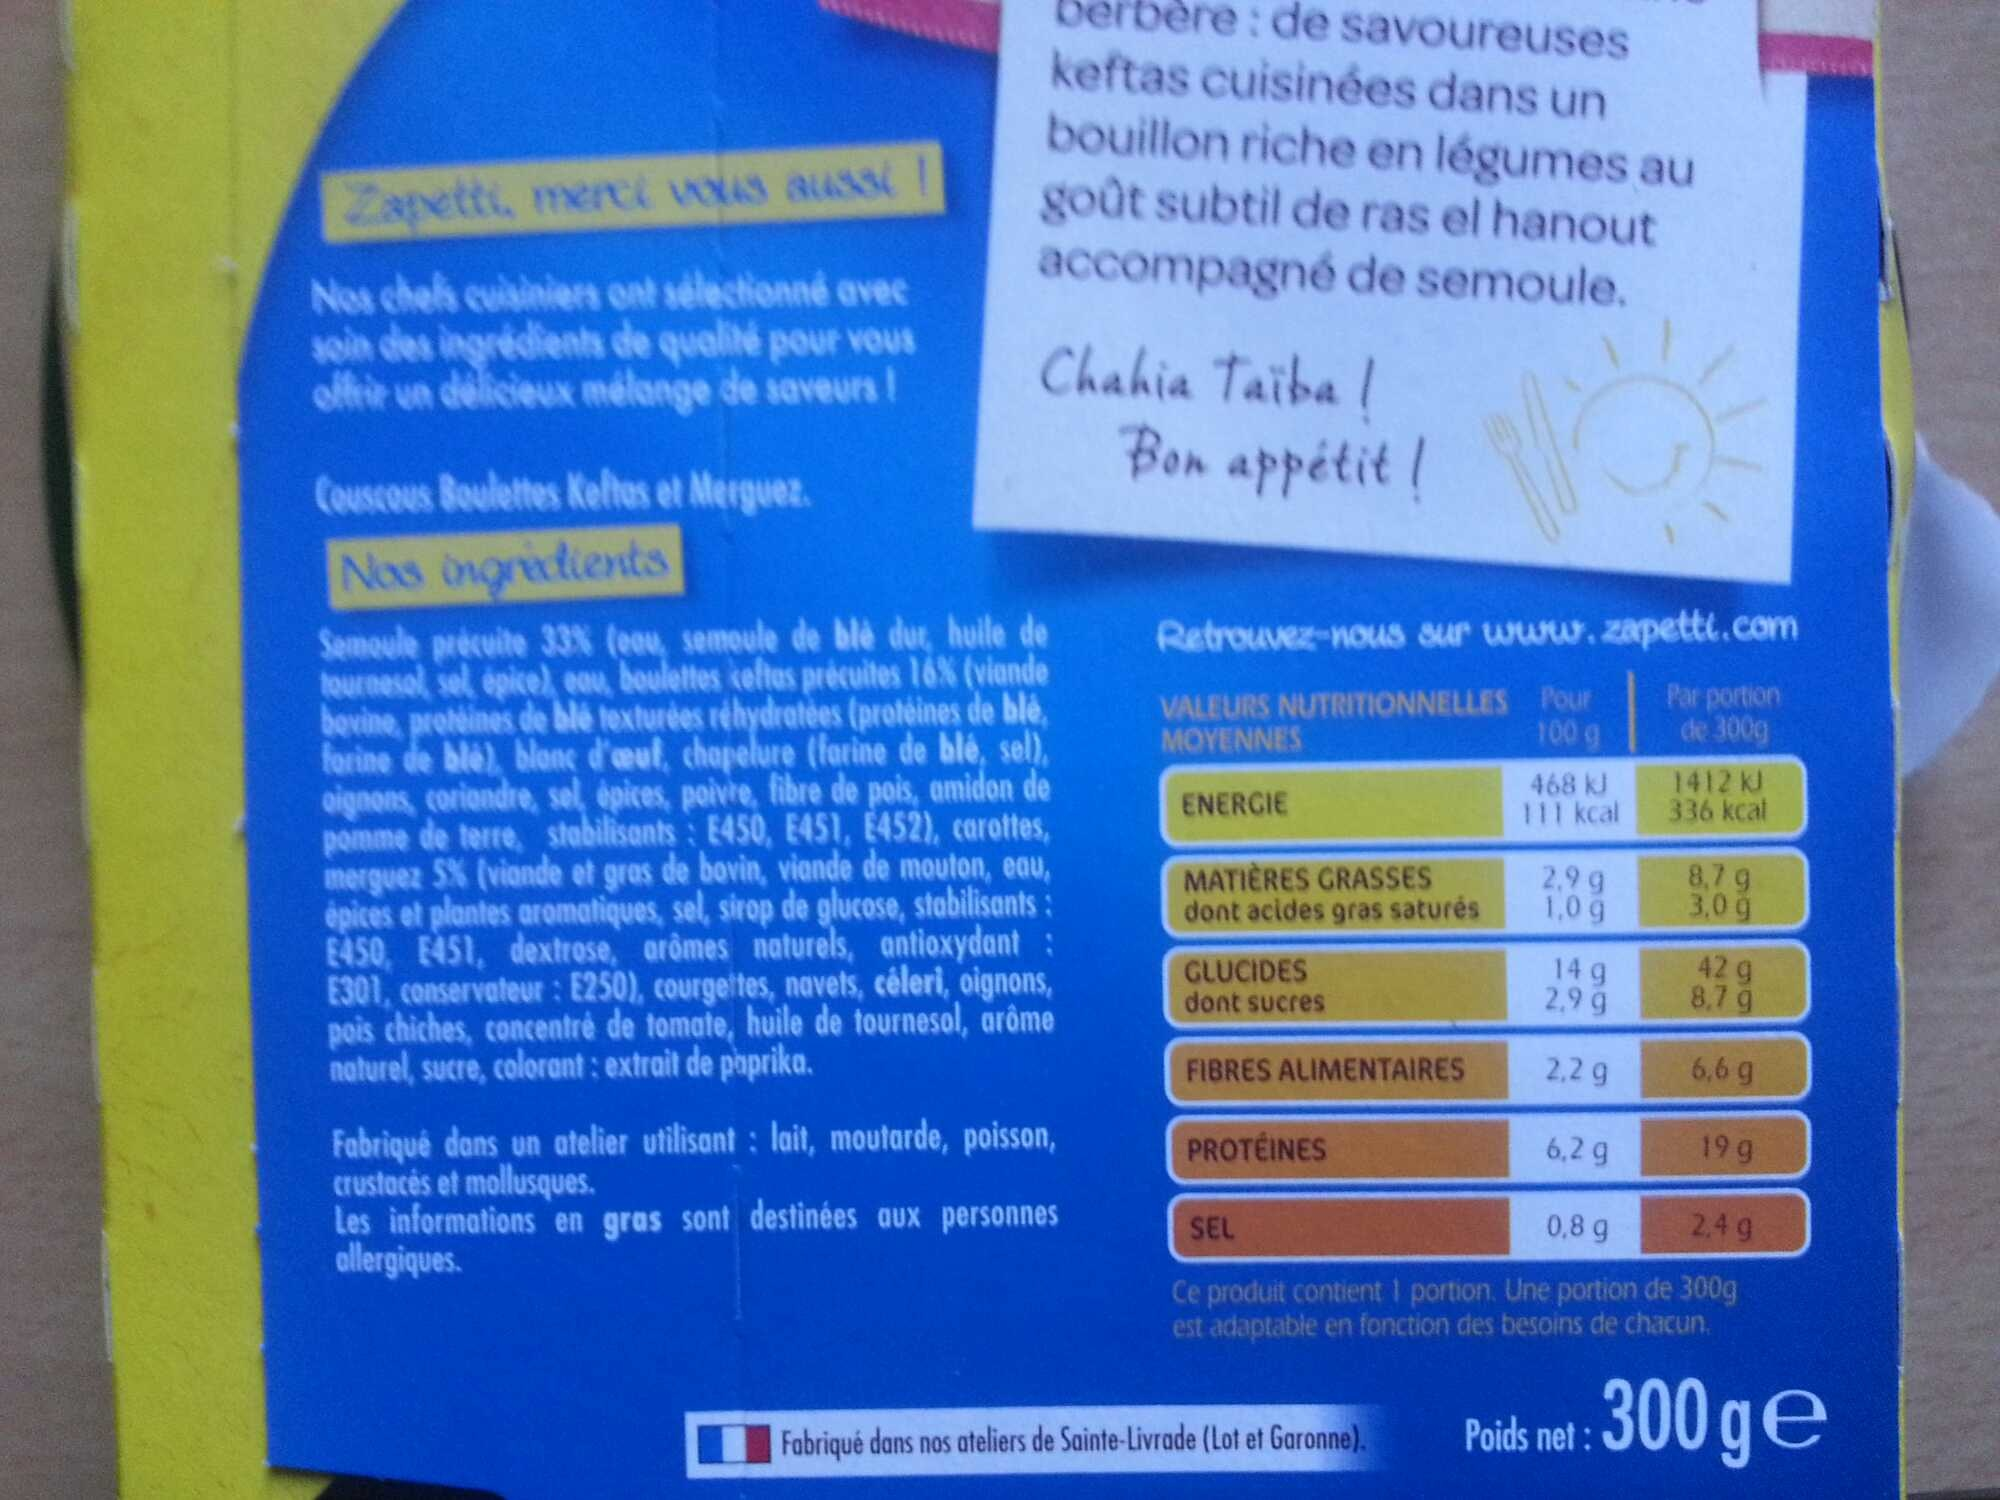column: (1172, 687, 1501, 1257), (1669, 684, 1778, 1253), (1521, 681, 1624, 1249)
table: (1154, 678, 1816, 1265)
